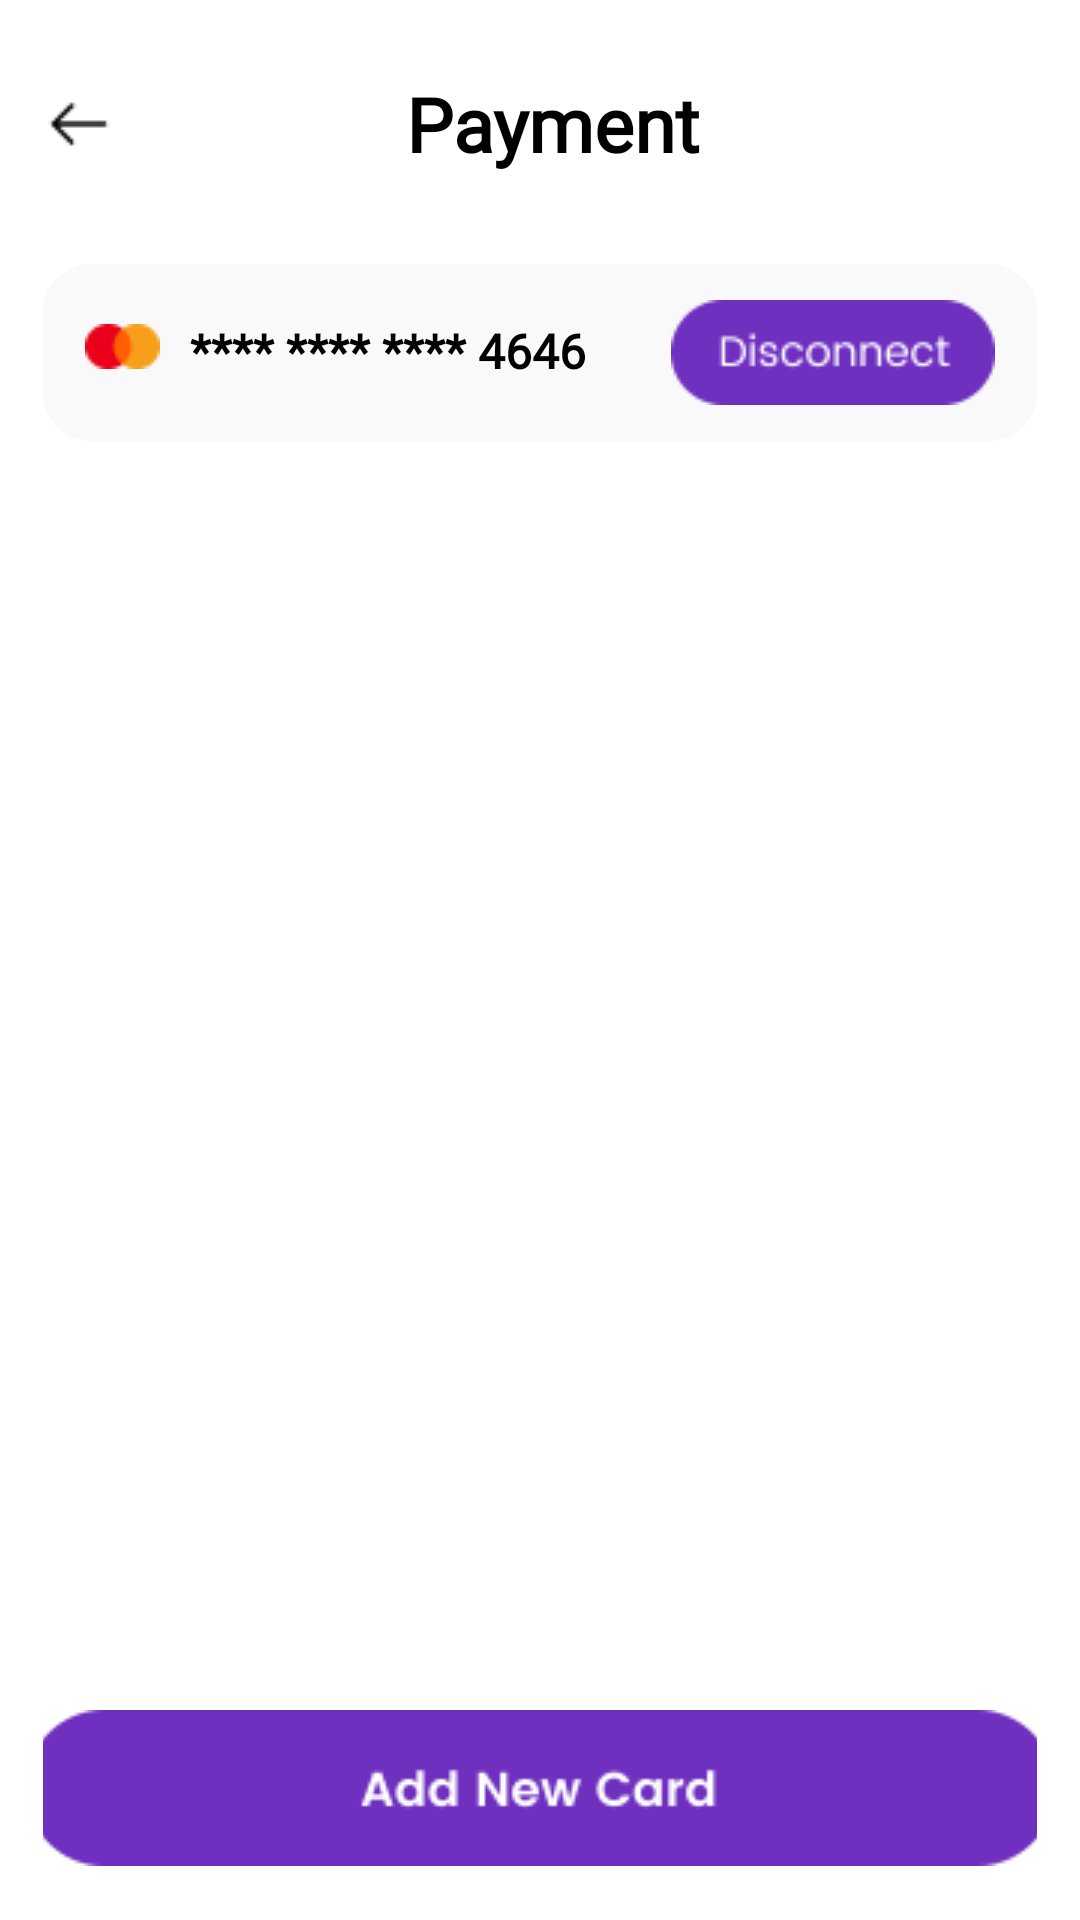

Icons on this 1080 x 1920 Android screen, each with its box as (x1, y1, x2, y2):
back arrow: (50, 102, 108, 146)
